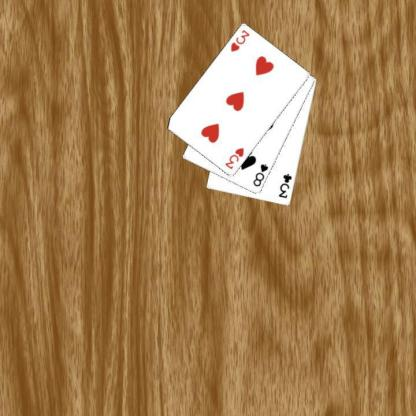3C: (276, 172, 293, 200)
3H: (222, 145, 245, 170), (228, 28, 251, 53)
8S: (250, 162, 270, 188)
